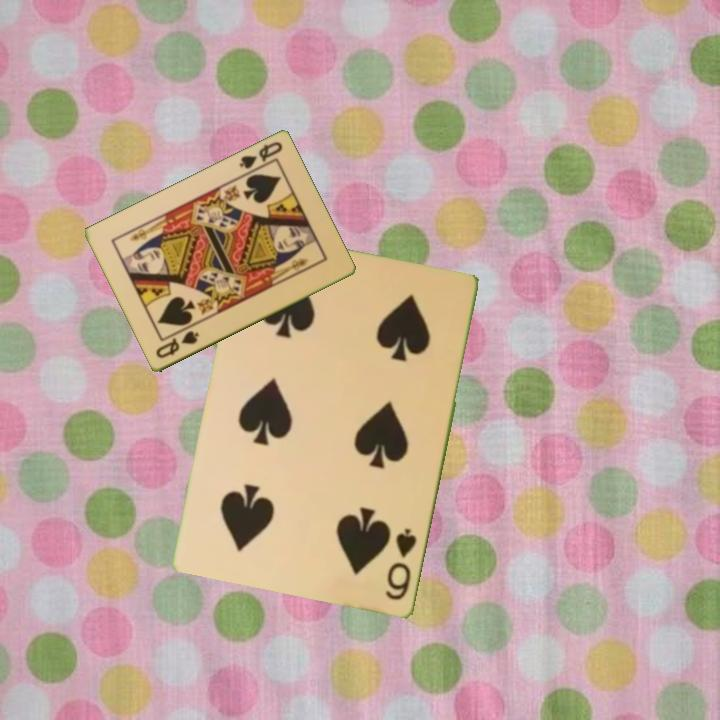6s: (382, 525, 420, 604)
Qs: (152, 327, 202, 362), (236, 138, 285, 172)
